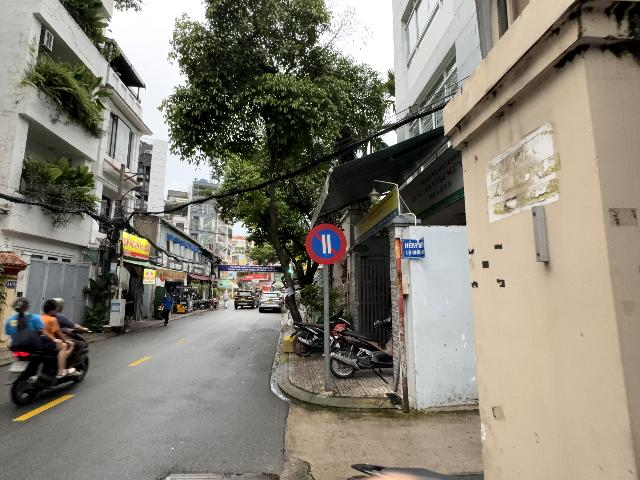cam-do-xe-ngay-chan: (305, 223, 348, 265)
